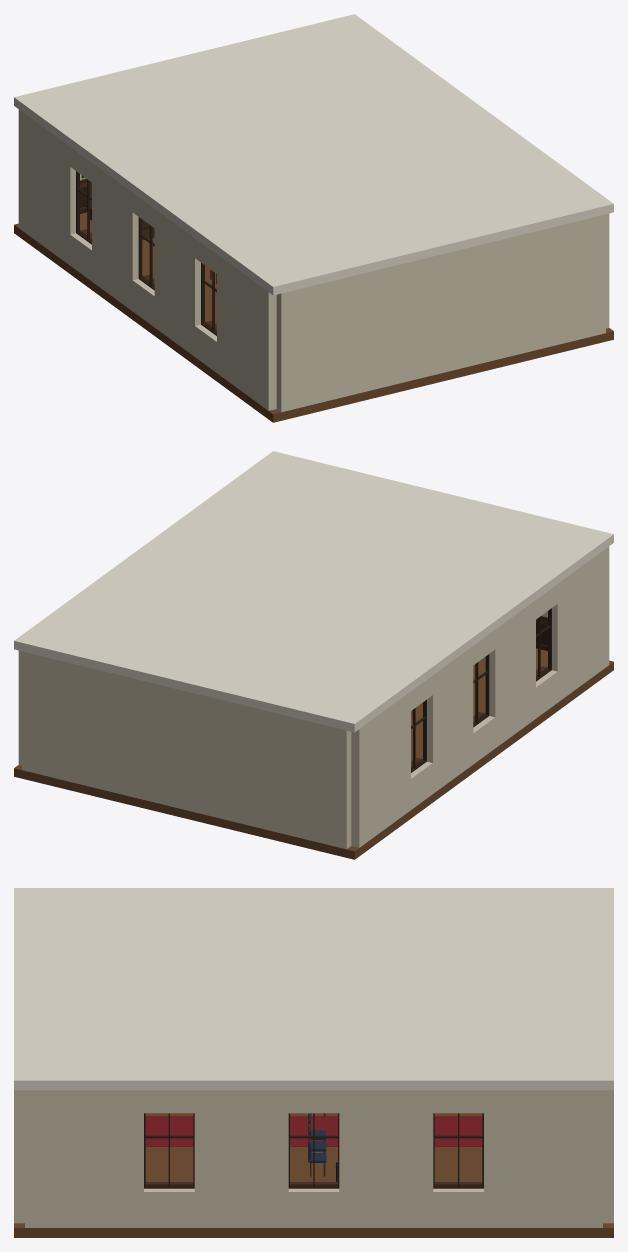
Rendered from room.glb.
3 views of the same model, one above another, from view 1: azimuth 30°, elevation 25°; view 2: azimuth 150°, elevation 25°; view 3: azimuth 270°, elevation 25° (orthographic). The views are drawn at different scales.
Visible parts, largest first — view 1: shell; view 2: shell; view 3: shell, furn.
Part boxes in pixels (x1,y1,x2,y2): shell: (14, 14, 613, 422); shell: (14, 451, 613, 859); shell: (14, 888, 613, 1237); furn: (308, 1113, 337, 1181).
Size of the model in its own units: 12.6 by 4.8 by 16.6.
